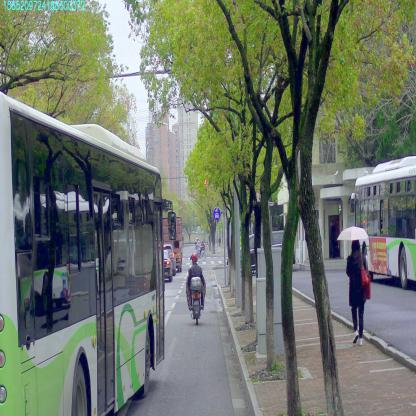traffic-light: (204, 178, 208, 196)
